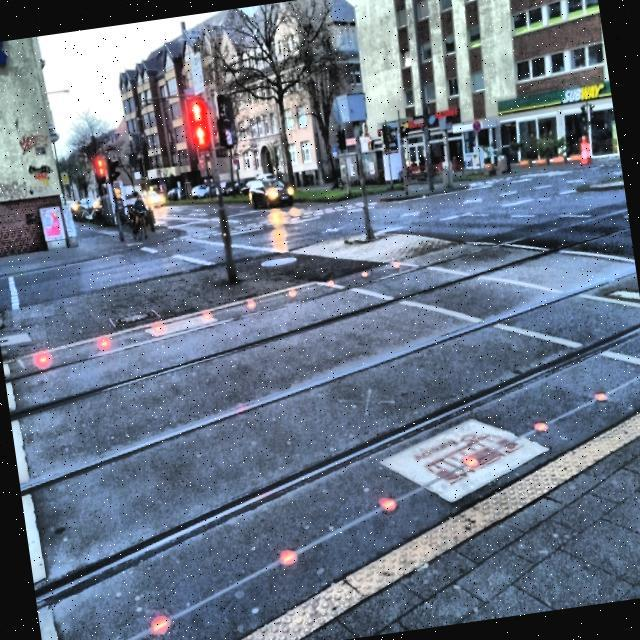red_light: (190, 99, 203, 124), (194, 126, 208, 147)
